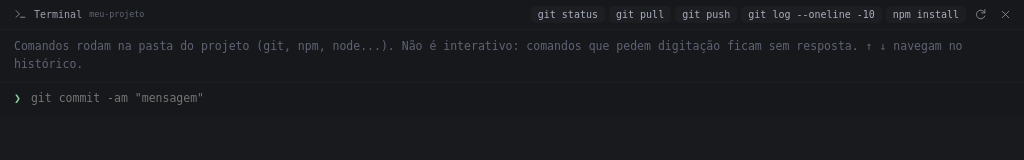
Test: Terminal › erros de execução aparecem como saída com falha
The image size is (1024, 160).
Type "ls" into the field named "Comando do terminal" at (519, 98), box [29,89,1010,108]
Then press Enter
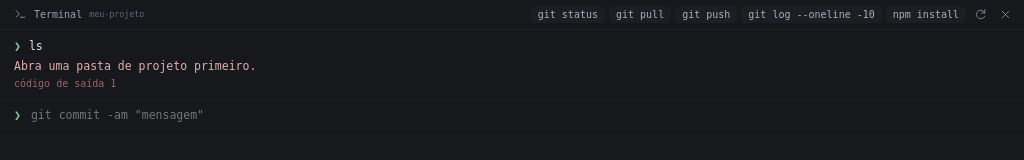
Expected: the text "Abra uma pasta de projeto primeiro." is shown, [14,59,256,73]
